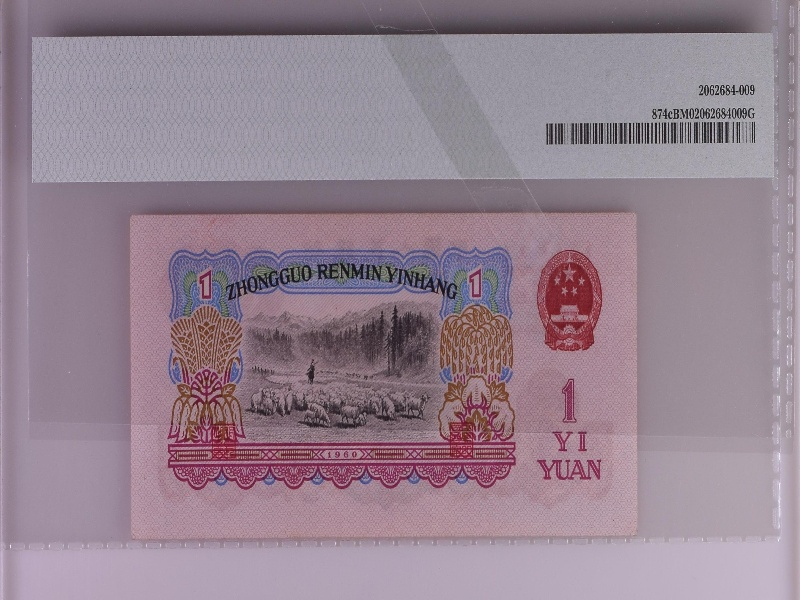papernote: (127, 209, 640, 541)
